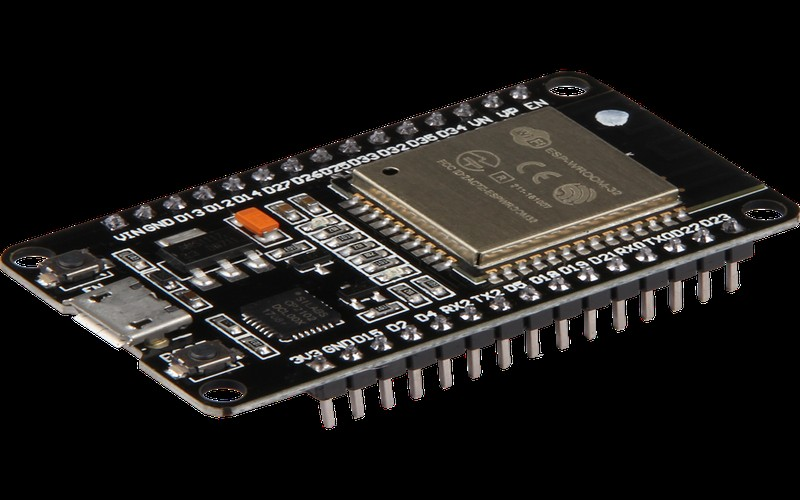IoT Sensor: (0, 62, 800, 441)
